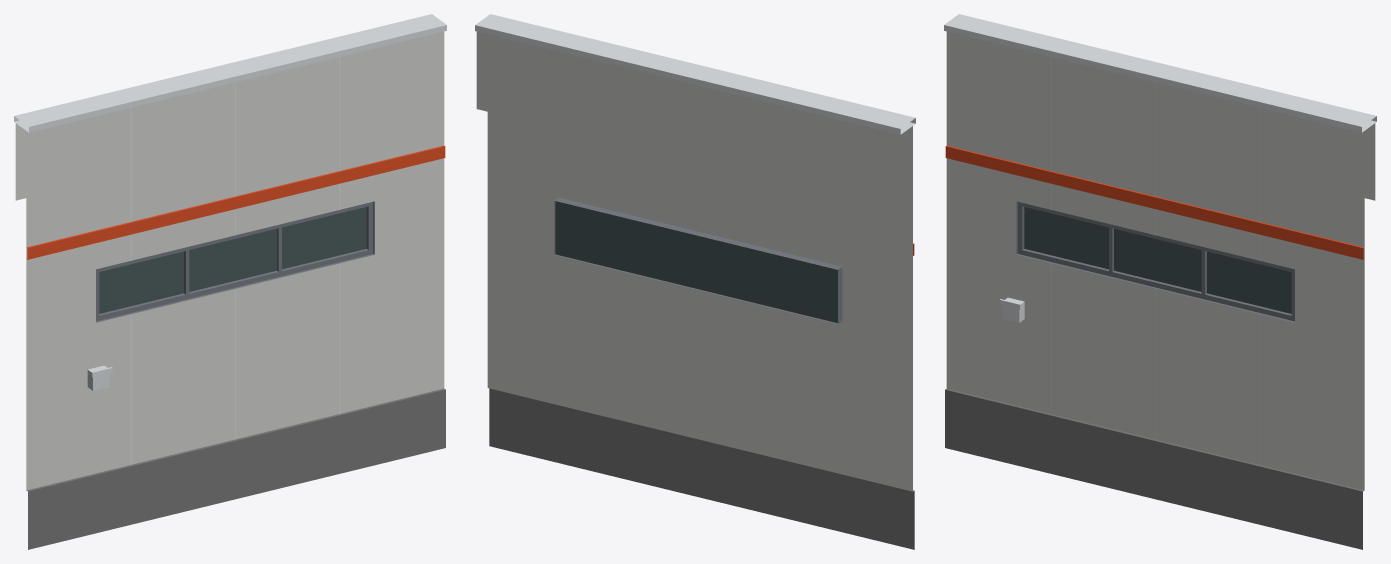
File: base-w4_close.fbx
3 views of the same model, side by side, from view 1: azimuth 30°, elevation 25°; view 2: azimuth 150°, elevation 25°; view 3: azimuth 330°, elevation 25° (orthographic).
Visible parts, largest first — view 1: a2003/400/base-w4_close; view 2: a2003/400/base-w4_close; view 3: a2003/400/base-w4_close.
Boxes of the visible parts, box(x1,y1,x2,y2) form: a2003/400/base-w4_close: box(14, 14, 446, 549); a2003/400/base-w4_close: box(475, 14, 915, 549); a2003/400/base-w4_close: box(944, 14, 1376, 549).
Size of the model in its own units: 4.5 by 4.36 by 0.35.
